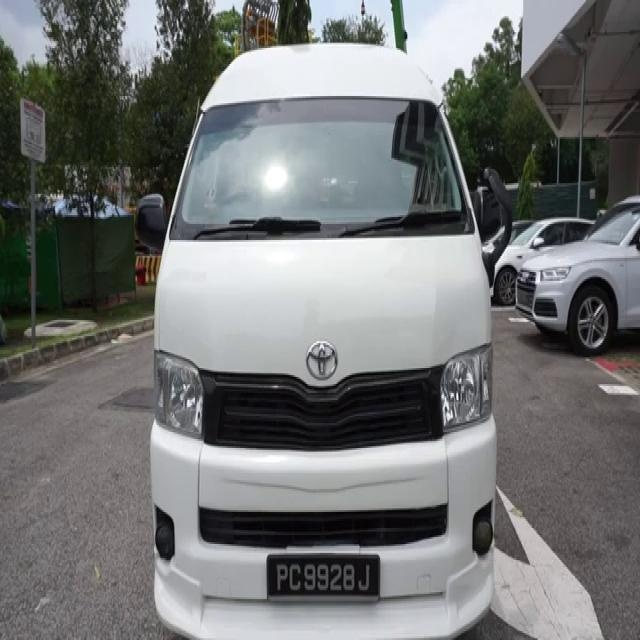Van: (146, 32, 503, 640)
